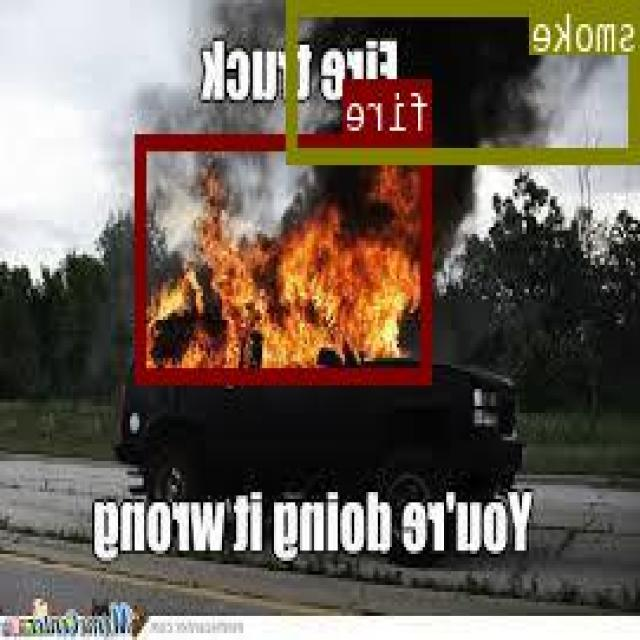fire: (138, 131, 434, 380)
smoke: (291, 0, 640, 158)
